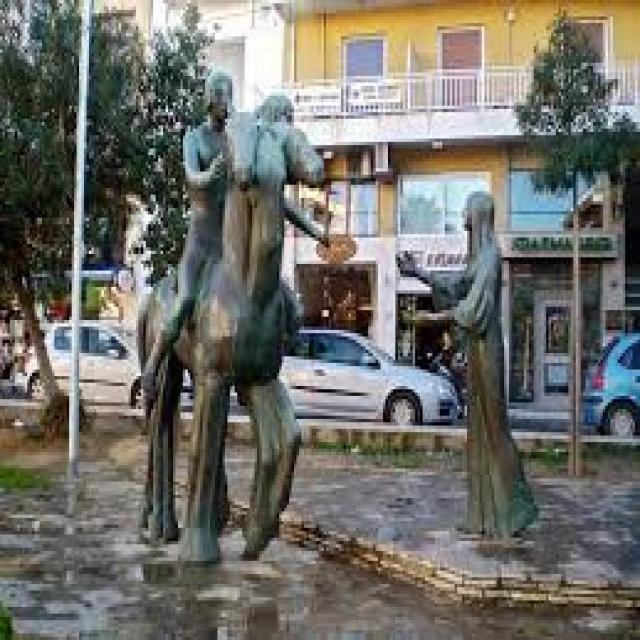Aretousa: (138, 71, 540, 567)
